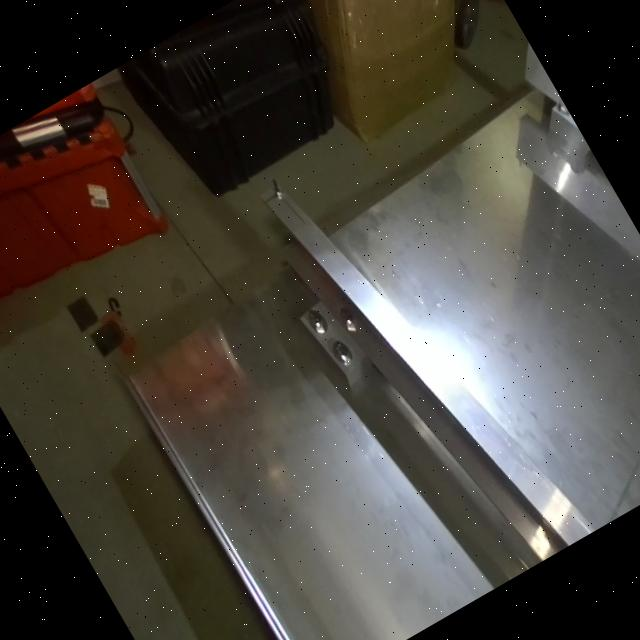blocks: (272, 244, 448, 420), (530, 81, 598, 174)
